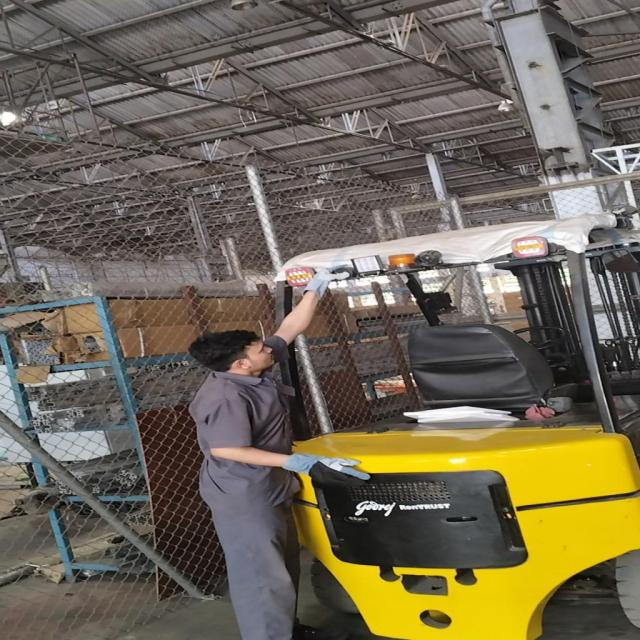Gloves-Detection: (278, 444, 365, 493), (302, 258, 350, 306)
